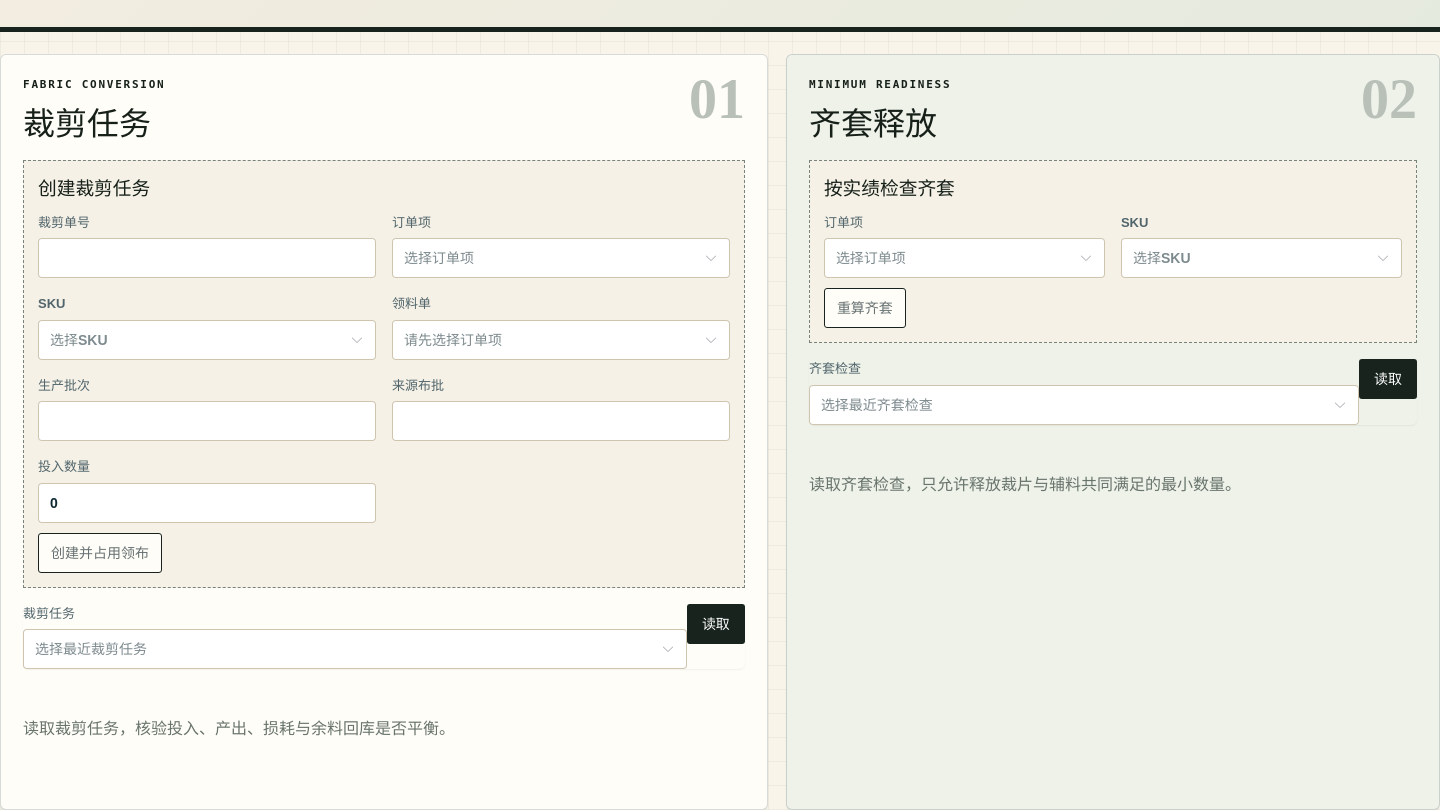
it: 裁剪与齐套工作台 › 提供创建裁剪、完成裁剪和服务端齐套检查入口
This screenshot has width=1440, height=810.
(page scrolled)
expect the form with test id "create-cutting-form" is shown: met, box [23, 160, 745, 588]
expect the form with test id "create-kitting-form" is shown: met, box [809, 160, 1417, 343]
Click the button with test id "load-cutting": (716, 624) [687, 604, 745, 644]
(page scrolled)
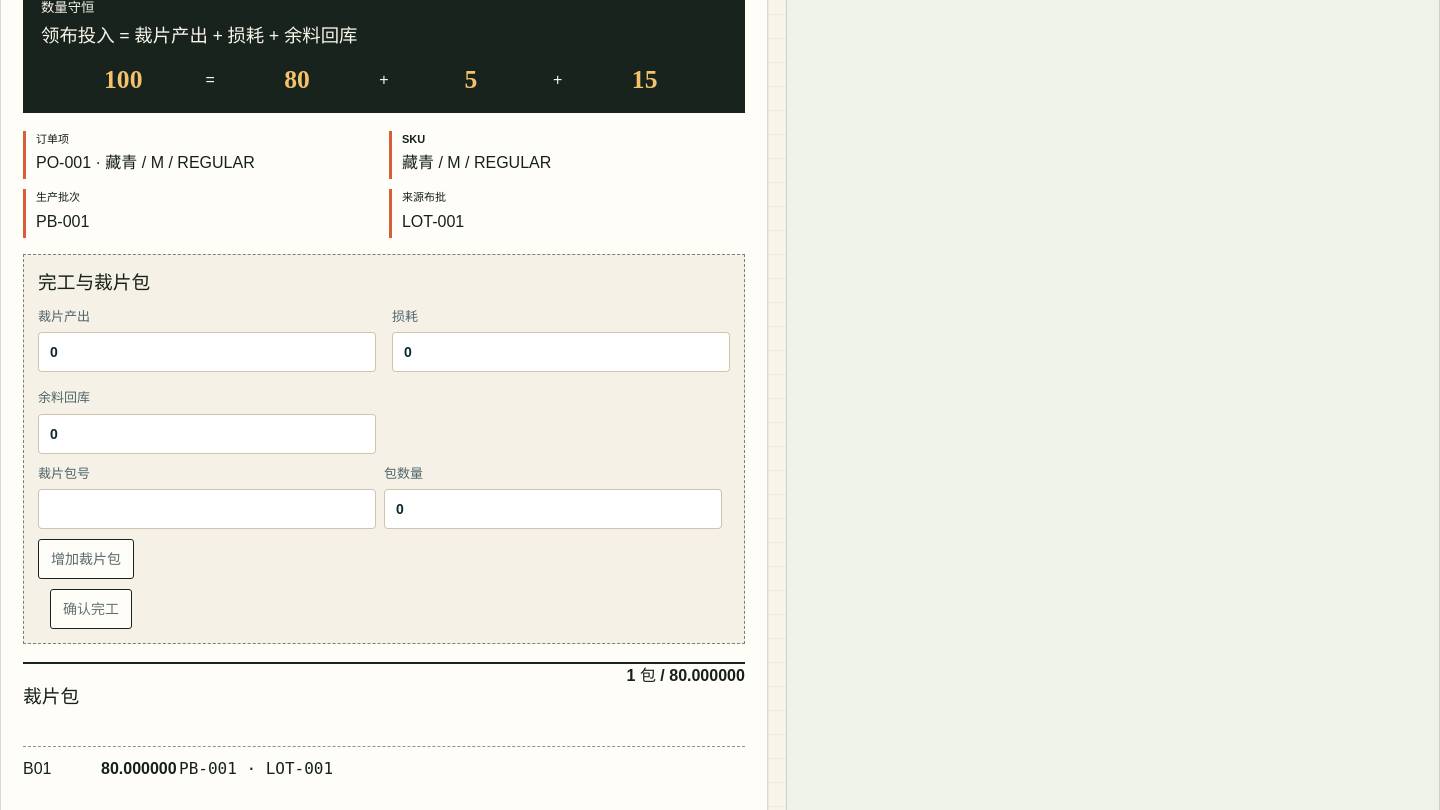
expect the form with test id "complete-cutting-form" is shown: met, box [23, 254, 745, 644]
